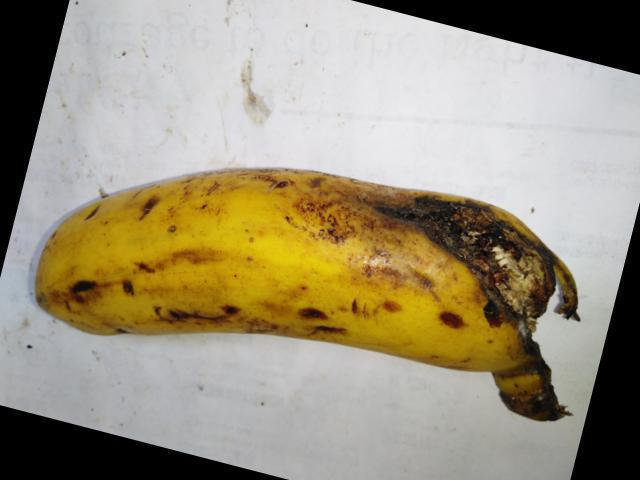ripe: (32, 152, 363, 346)
rotten: (338, 127, 588, 367)
